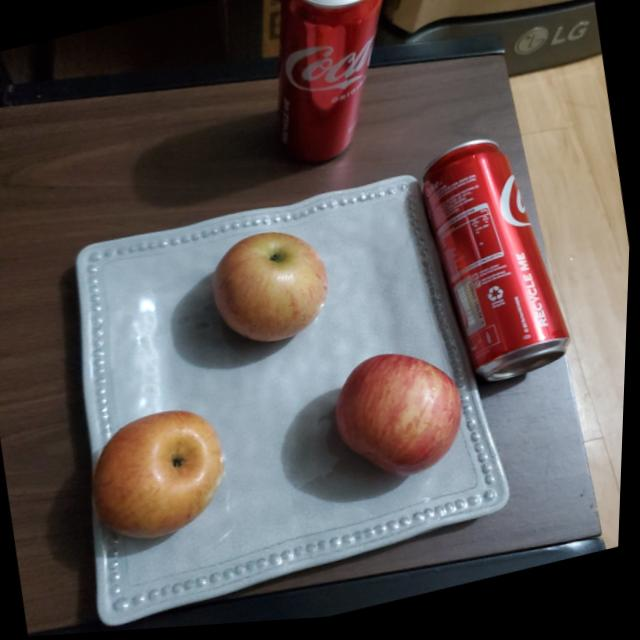apple: (85, 399, 240, 552), (326, 344, 477, 499), (207, 222, 340, 359)
coke: (407, 128, 581, 401), (263, 0, 421, 171)
